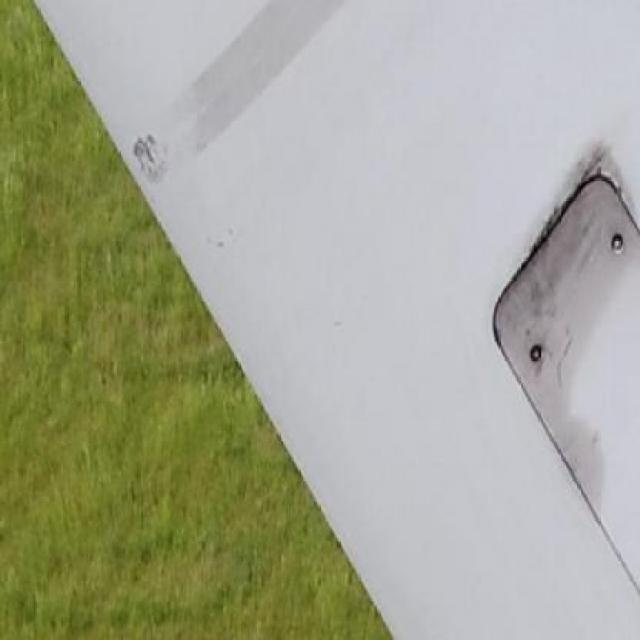Burn Mark: (490, 284, 593, 458), (548, 135, 640, 222), (504, 222, 639, 281)
Coating_defects: (134, 130, 168, 184)
